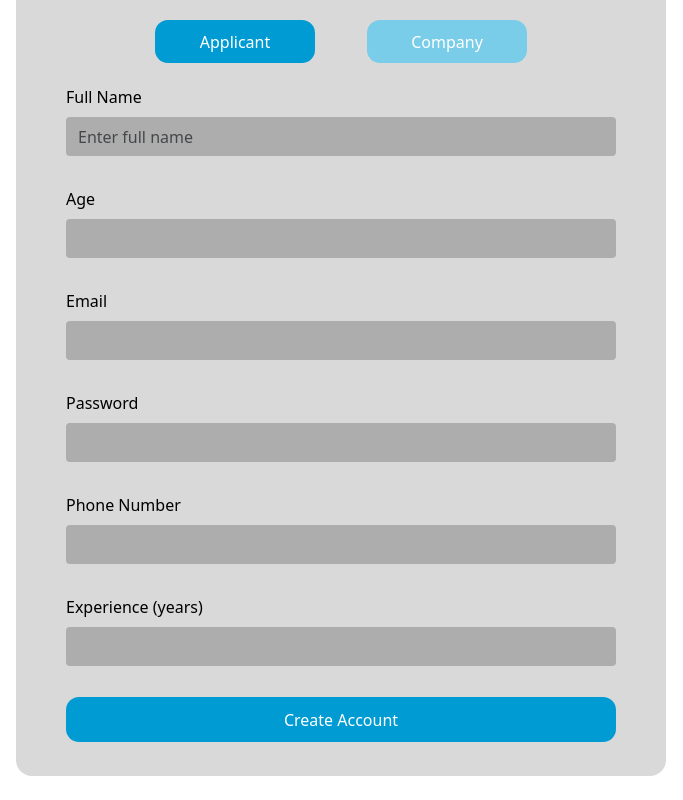
Scenario: Smart Job Application Tracking › shows registration validation errors
(page scrolled)
Click the button "Create Account" at (341, 720), box [66, 697, 616, 742]
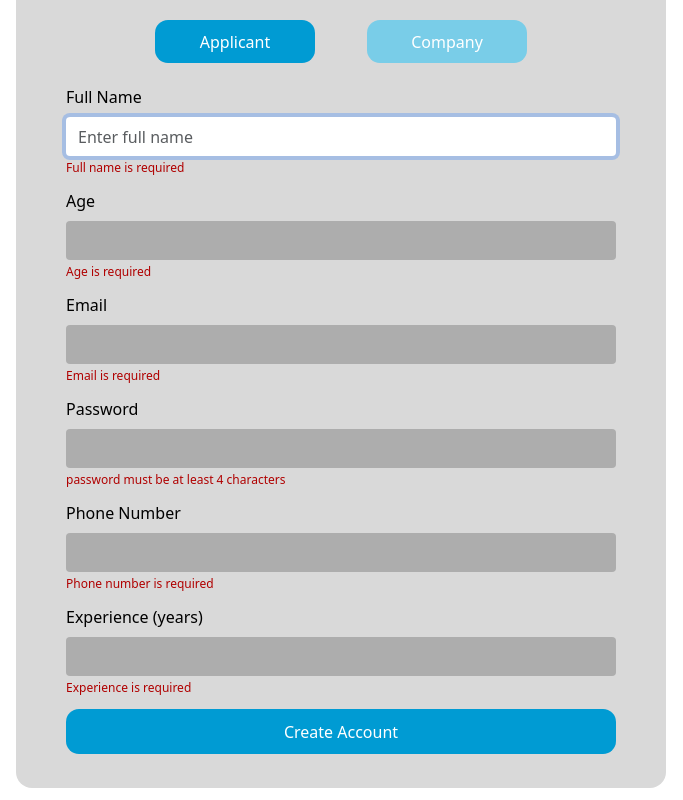
expect the text "Full name is required" is shown: met, box [66, 159, 184, 176]
expect the text "Email is required" is shown: met, box [66, 367, 160, 384]
